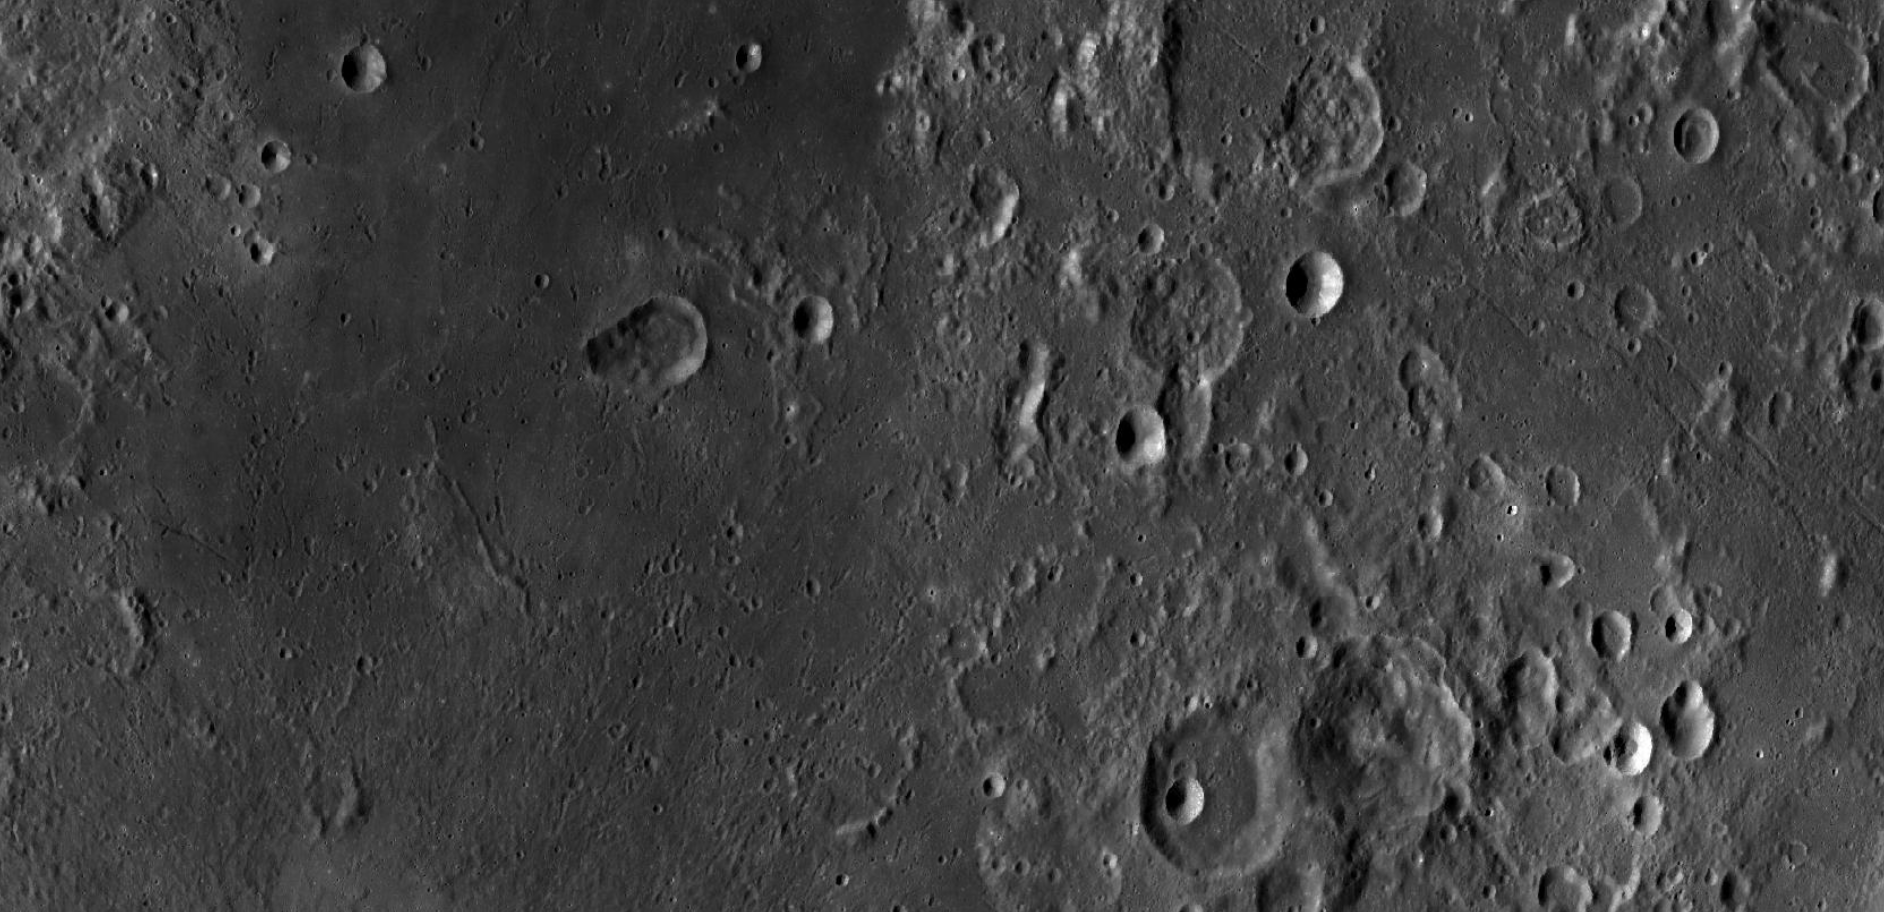crater: (1277, 628, 1510, 883), (545, 290, 743, 409), (1251, 48, 1387, 202), (1111, 250, 1260, 388), (1269, 233, 1369, 336), (316, 38, 425, 113), (1509, 184, 1592, 266), (1661, 99, 1725, 175), (1606, 276, 1669, 356), (1653, 594, 1713, 654), (342, 472, 384, 503)
